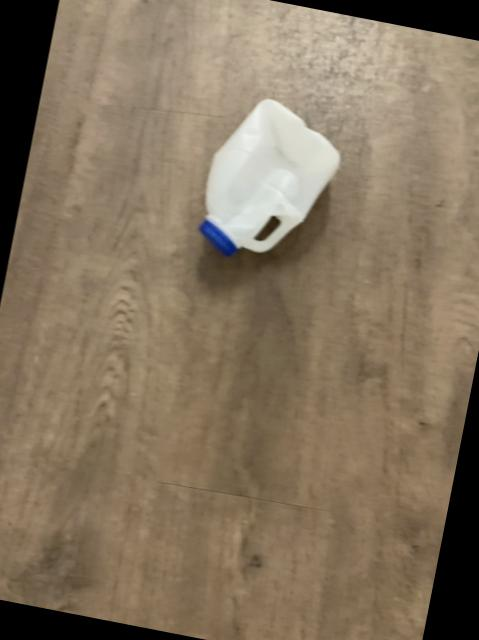plastic: (200, 98, 340, 254)
